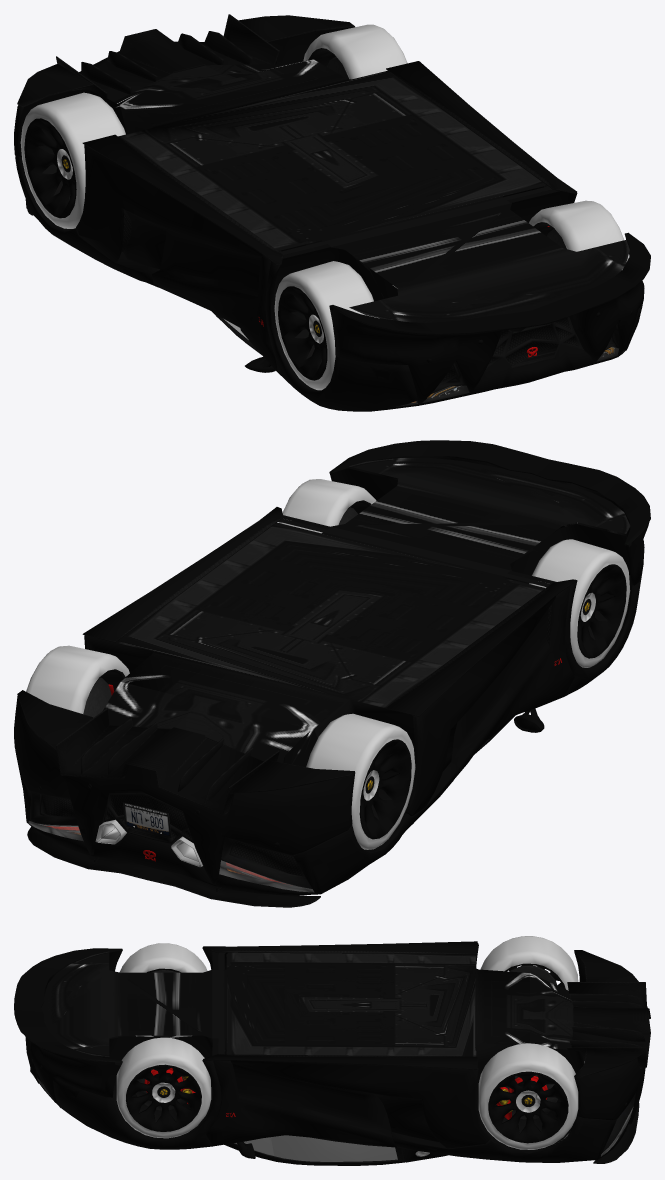
File: supercar.glb
The picture shows the model from 3 angles, top to bottom: view 1: azimuth 30°, elevation 25°; view 2: azimuth 150°, elevation 25°; view 3: azimuth 270°, elevation 25°; orthographic projection. The views are drawn at different scales.
Parts seen in each view (by area): view 1: car_wheel_BL; view 2: car_wheel_BL; view 3: car_wheel_BL.
Part boxes in pixels (box(x1,y1,x2,y2)): car_wheel_BL: box(14, 14, 650, 411); car_wheel_BL: box(14, 440, 650, 907); car_wheel_BL: box(14, 936, 650, 1165).
Size of the model in its own units: 2.29 by 1.22 by 4.79.
4 materials, 3 textured.
